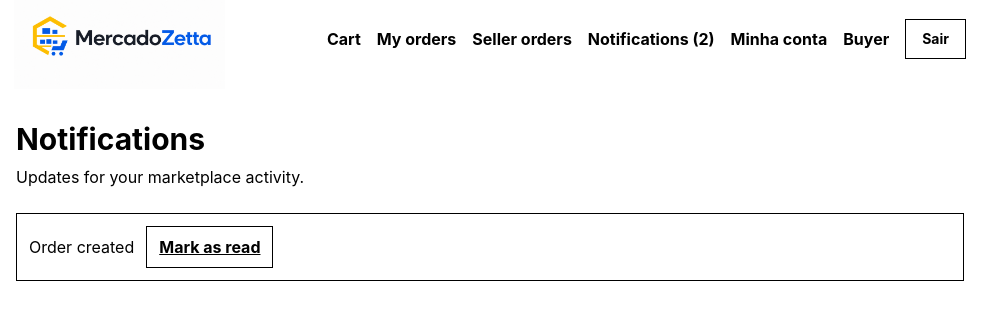
Test: Notifications › synchronizes successful read changes with the header count
This screenshot has width=983, height=322.
Expected: the text named "2 unread notifications" is shown, [689, 29, 715, 49]
Click the button "Mark as read": (210, 247) [146, 226, 274, 268]
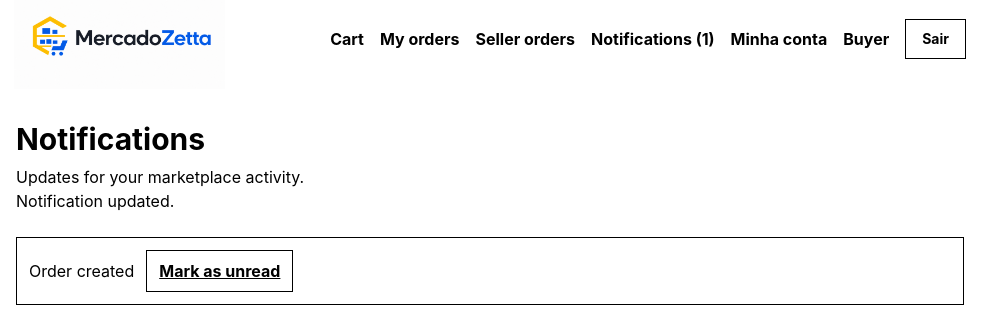
Expected: the text named "1 unread notifications" is shown, [696, 29, 715, 49]
Expected: the button "Mark as unread" is shown, [146, 250, 293, 292]
